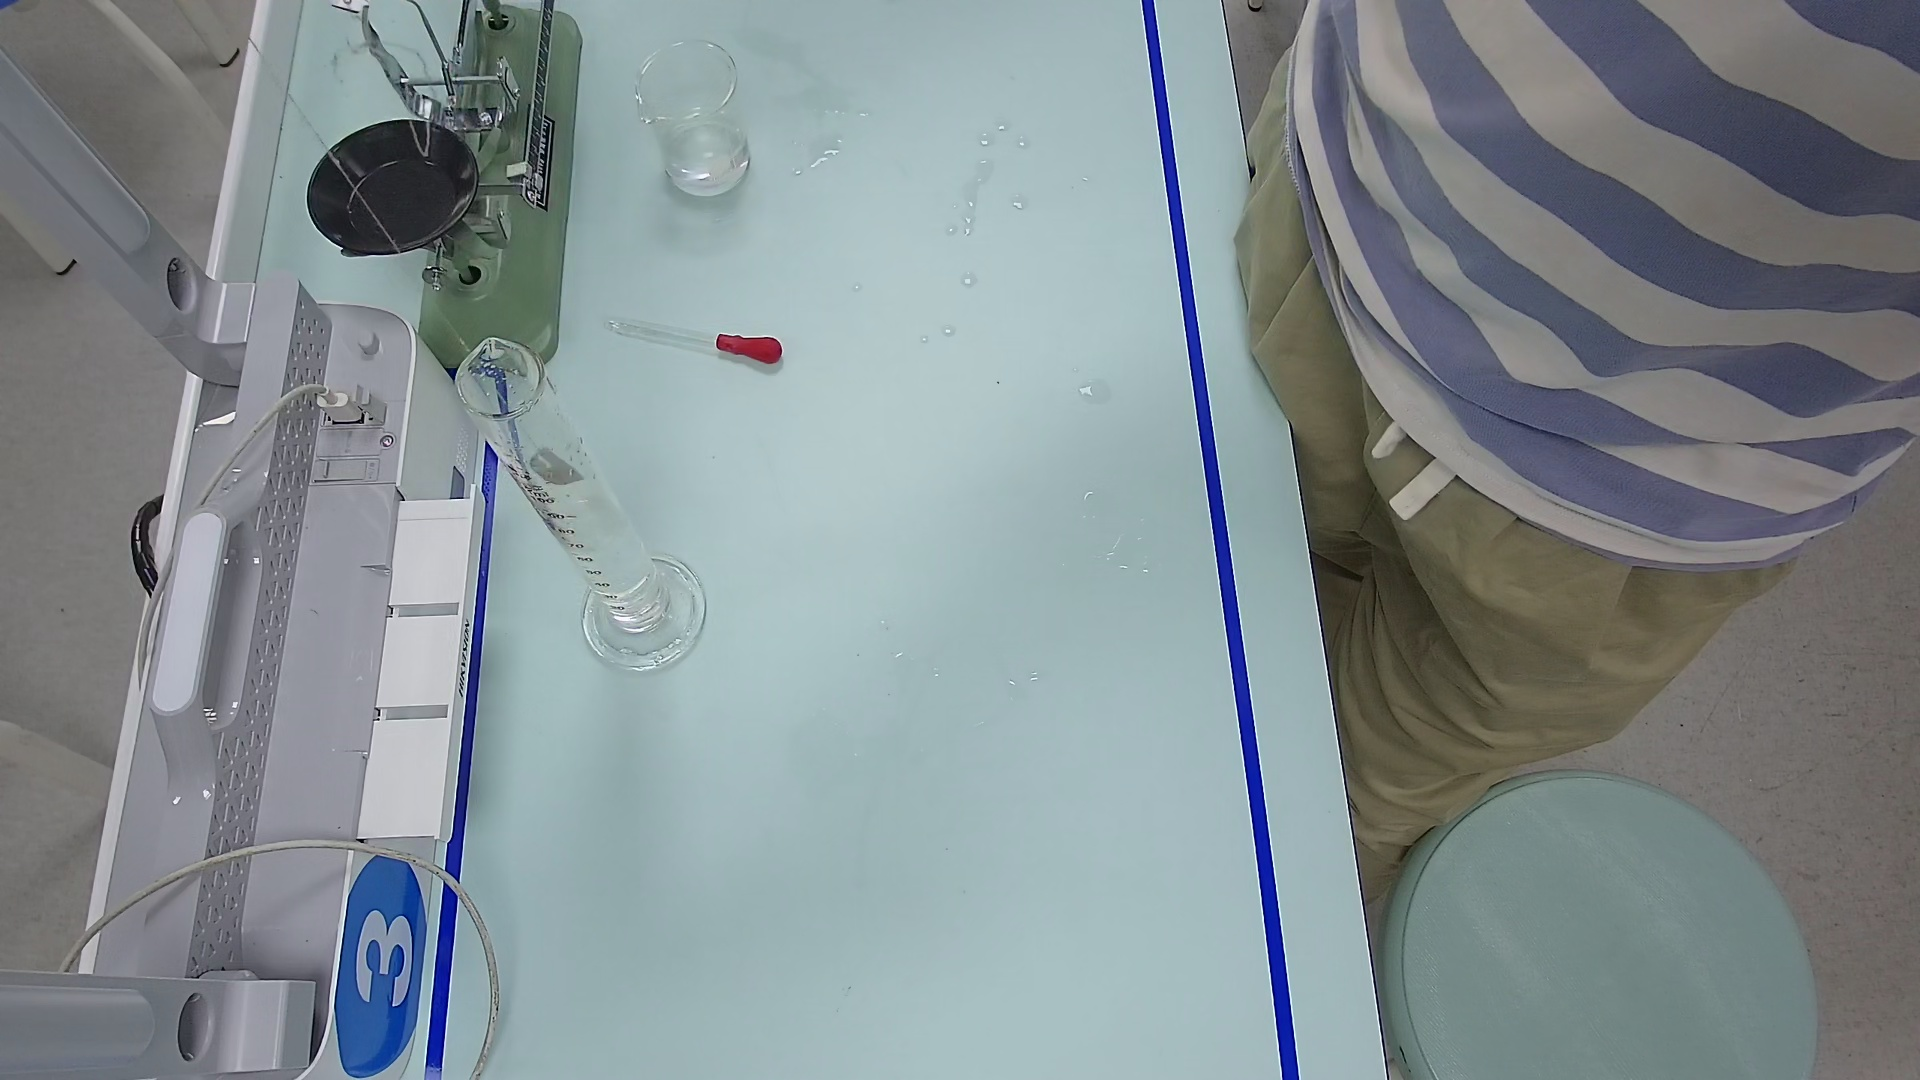ao: (545, 504, 618, 547)
bei: (632, 34, 753, 214)
diguan: (597, 306, 774, 372)
diguantou: (717, 327, 775, 371)
liangdi: (559, 554, 716, 675)
liangtong: (464, 335, 705, 673)
shi: (526, 439, 575, 496)
tuo: (301, 127, 483, 253)
